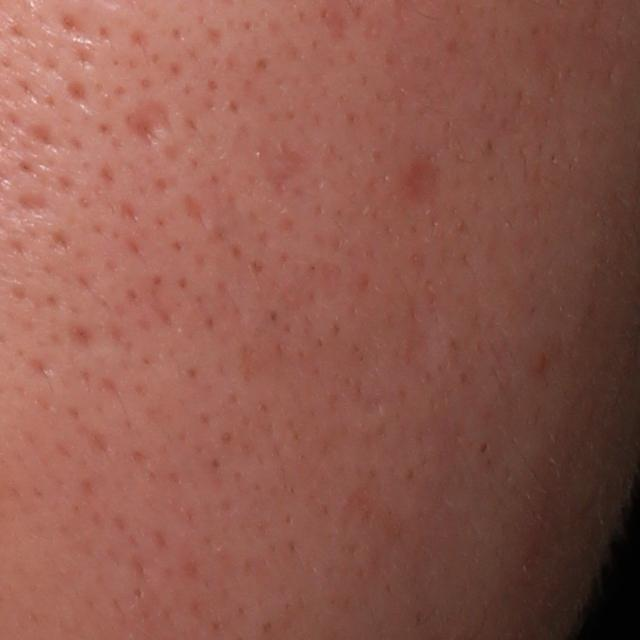atrophic_scar: (250, 136, 311, 205), (387, 146, 447, 208), (124, 96, 172, 149), (17, 190, 57, 219), (182, 189, 210, 227)
